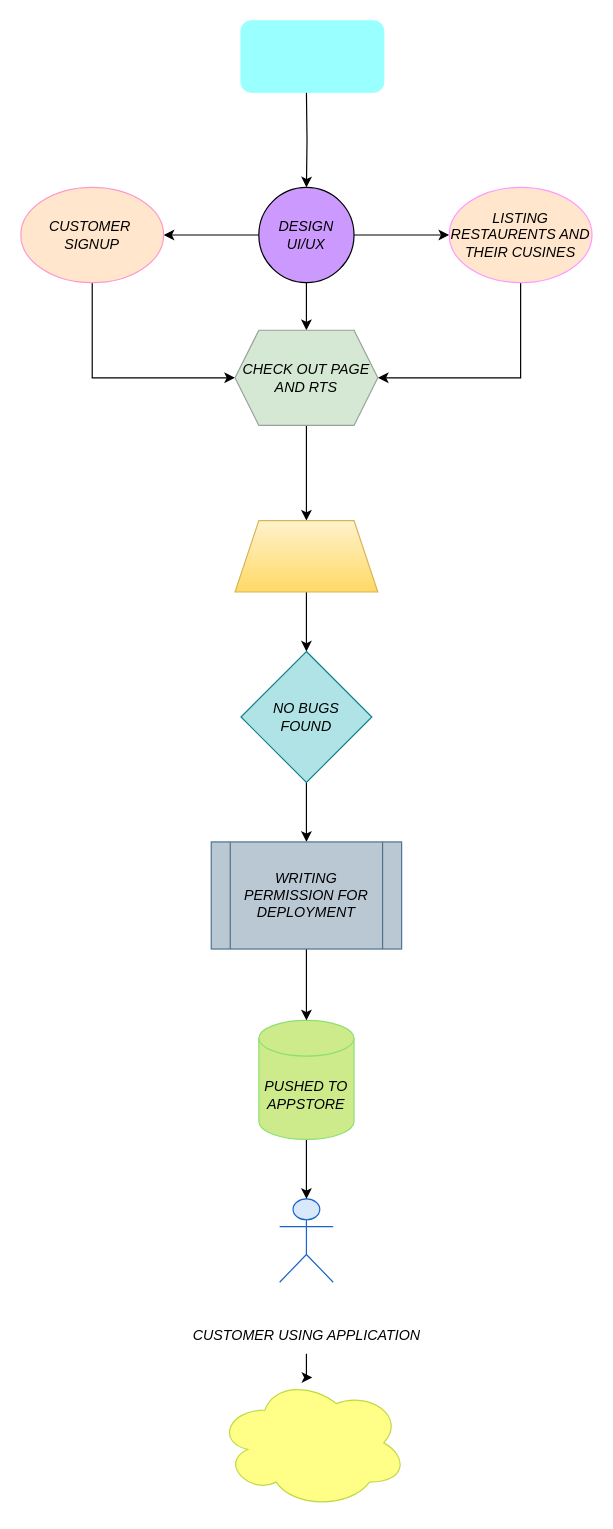
Image size: 613x1529. Some labels were removed from this diagram. The centre of each missing label's shape, as x and y in pixels:
"Actor" goes at [305,1240].
"COMPILING TO APK" goes at [306,555].
"HUNGRY BIRDS" goes at [312,56].
"RECEIVED NO FEEDBACK" goes at [312,1442].
